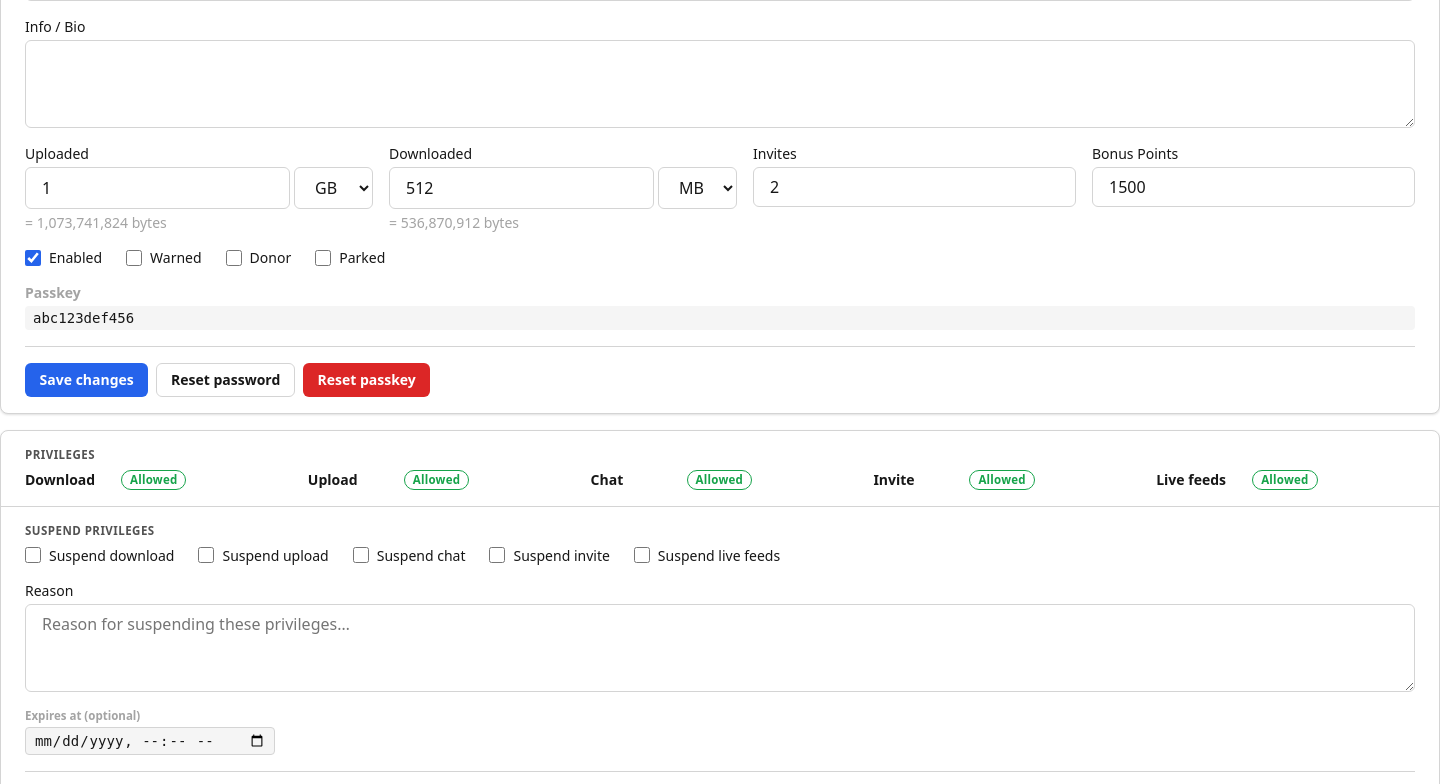
Test: AdminUserDetailPage › opens password reset modal when clicking Reset Password
(page scrolled)
Click the button "Reset password" at (226, 380), box [156, 363, 295, 397]
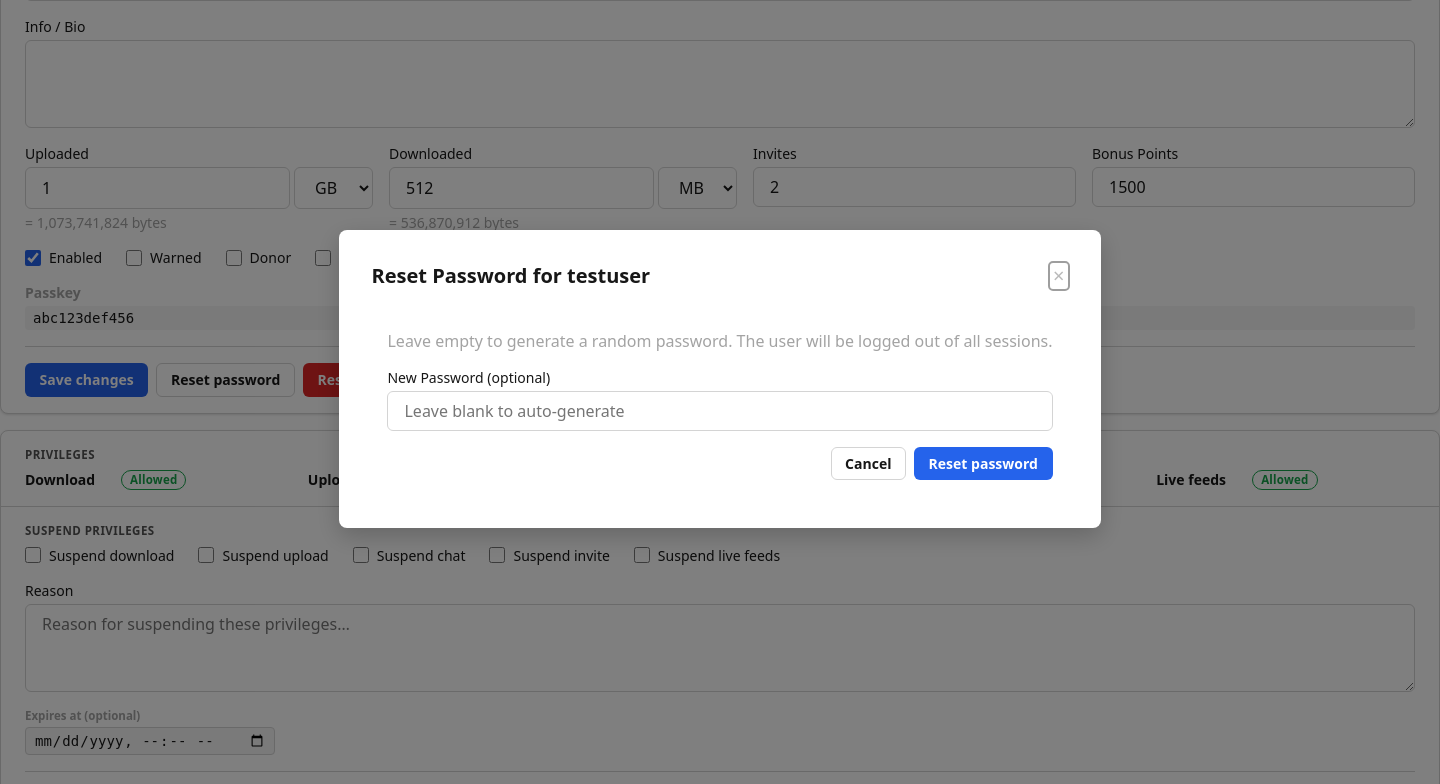
Now the heading "Reset Password for testuser" is shown, box [372, 262, 650, 289]
Now the field with placeholder "Leave blank to auto-generate" is shown, box [388, 391, 1052, 431]
